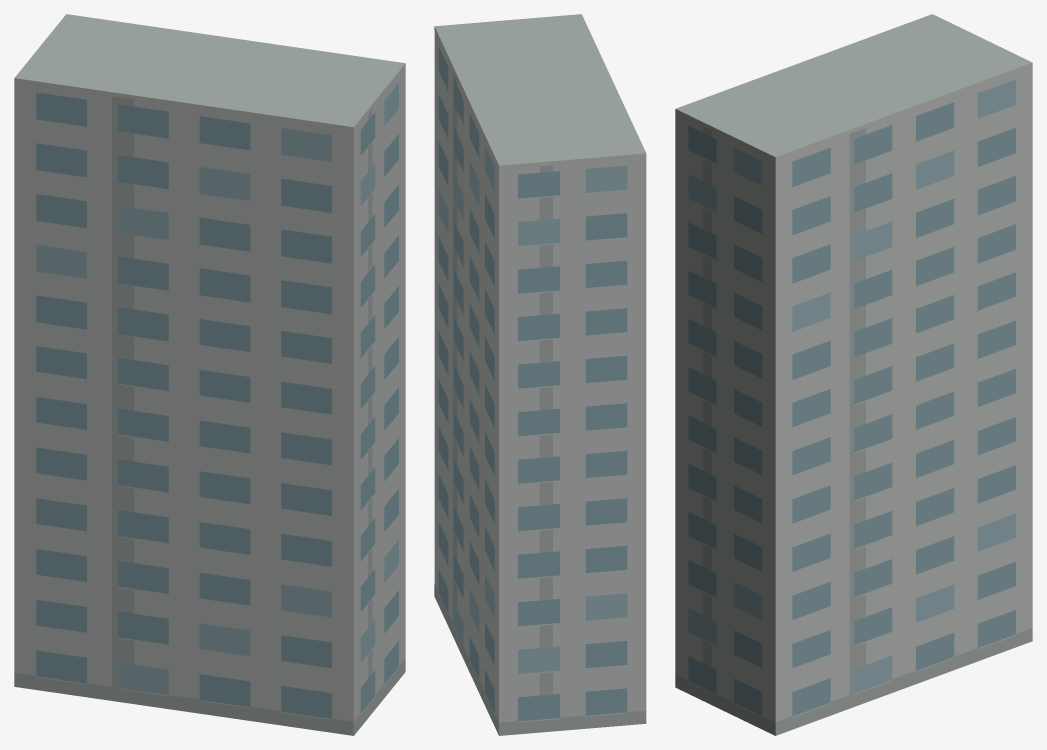
The model's file is residential-a25f4762-61a5-46e3-8b7b-adbe83800477.glb.
The picture shows the model from 3 angles, left to right: view 1: azimuth 30°, elevation 25°; view 2: azimuth 150°, elevation 25°; view 3: azimuth 270°, elevation 25°; orthographic projection. The views are drawn at different scales.
Visible parts, largest first — view 1: residential-a25f4762-61a5-46e3-8b7b-adbe83800477.tmp; view 2: residential-a25f4762-61a5-46e3-8b7b-adbe83800477.tmp; view 3: residential-a25f4762-61a5-46e3-8b7b-adbe83800477.tmp.
Part boxes in pixels (left/top/right/bottom): residential-a25f4762-61a5-46e3-8b7b-adbe83800477.tmp: left=14, top=14, right=405, bottom=735; residential-a25f4762-61a5-46e3-8b7b-adbe83800477.tmp: left=434, top=14, right=646, bottom=735; residential-a25f4762-61a5-46e3-8b7b-adbe83800477.tmp: left=675, top=14, right=1032, bottom=735.
Bounding box in the file's own units: 18.59 × 35 × 19.59.
